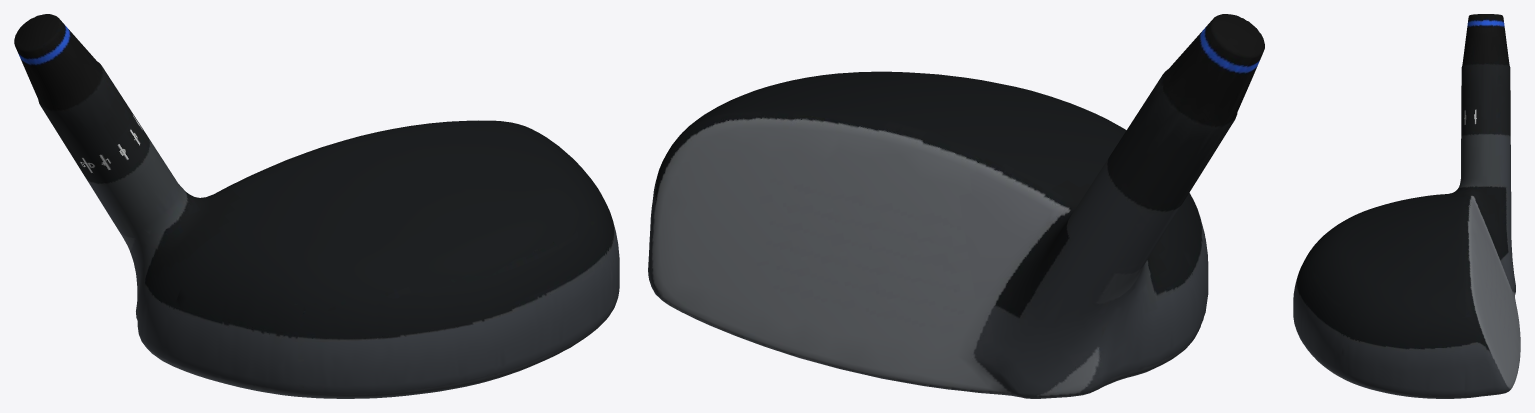
The picture shows the model from 3 angles, left to right: view 1: azimuth 30°, elevation 25°; view 2: azimuth 150°, elevation 25°; view 3: azimuth 270°, elevation 25°; orthographic projection. The views are drawn at different scales.
Visible parts, largest first — view 1: head; view 2: head; view 3: head.
Part boxes in pixels (x1=…): head: x1=14, y1=14, x2=619, y2=398; head: x1=648, y1=14, x2=1264, y2=398; head: x1=1293, y1=14, x2=1520, y2=398.
Size of the model in its own units: 0.1151 by 0.0736 by 0.0635.
Materials: 1 (1 with a texture image).
